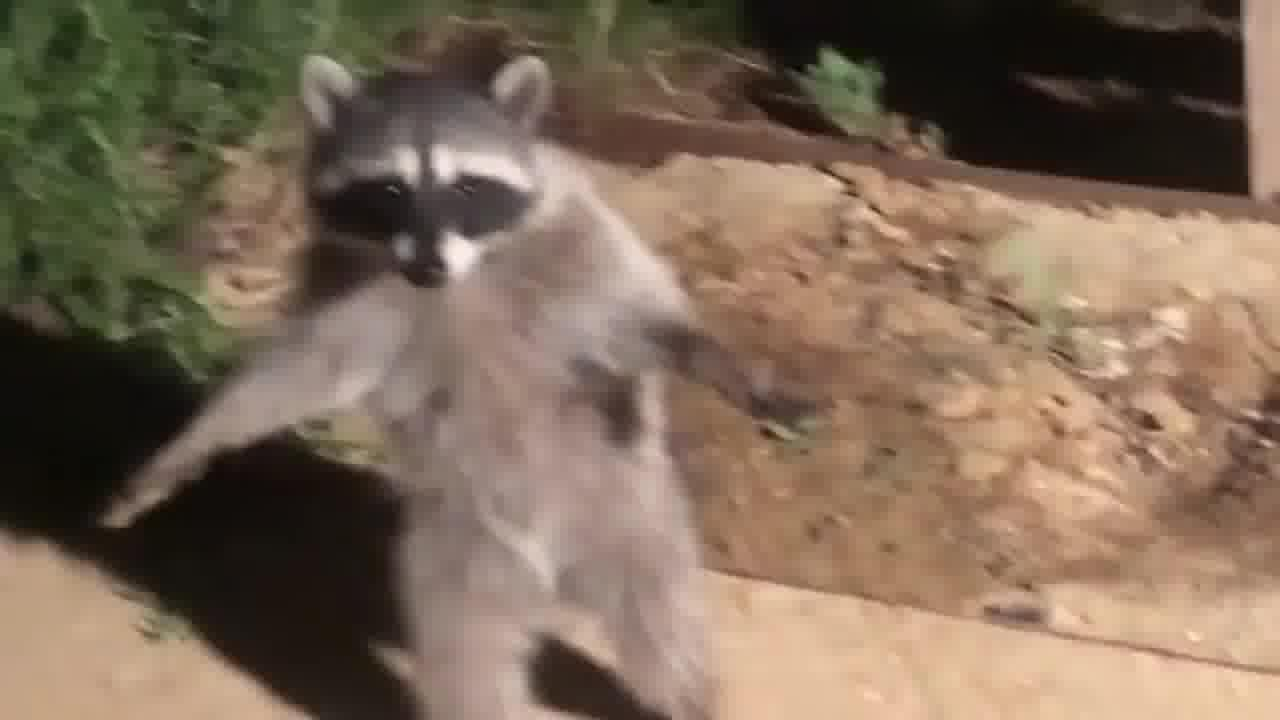raccoon: (109, 54, 838, 720)
